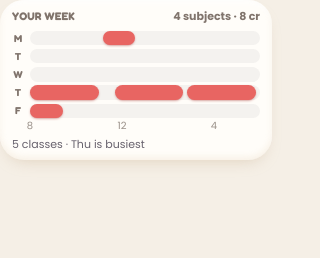
Test: WeekTimeline › pointing at a pill opens the tooltip with subject, teacher, day, time and room; leaving closes it
Step 1. Hover over the button named "Thu 8:00 to 11:05 AM, Web Engineering Lab, COMP LAB8" → [64, 93], box [30,85,99,100]
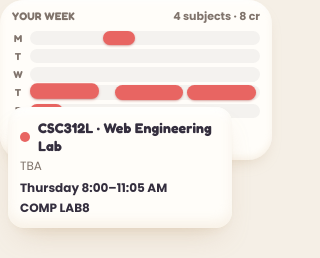
Now the tooltip shows "CSC312L · Web Engineering Lab", box [8,108,232,228]
Now the tooltip shows "TBA", box [20,158,42,174]
Now the tooltip shows "Thursday 8:00–11:05 AM", box [8,108,232,228]
Step 2. Move the pointer off the button named "Web Engineering Lab", box [30,84,99,99]
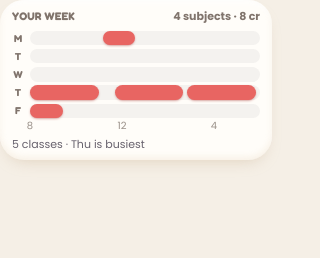
Now the tooltip "CSC312L · Web Engineering Lab TBA Thursday 8:00–11:05 AM COMP LAB8" is gone
